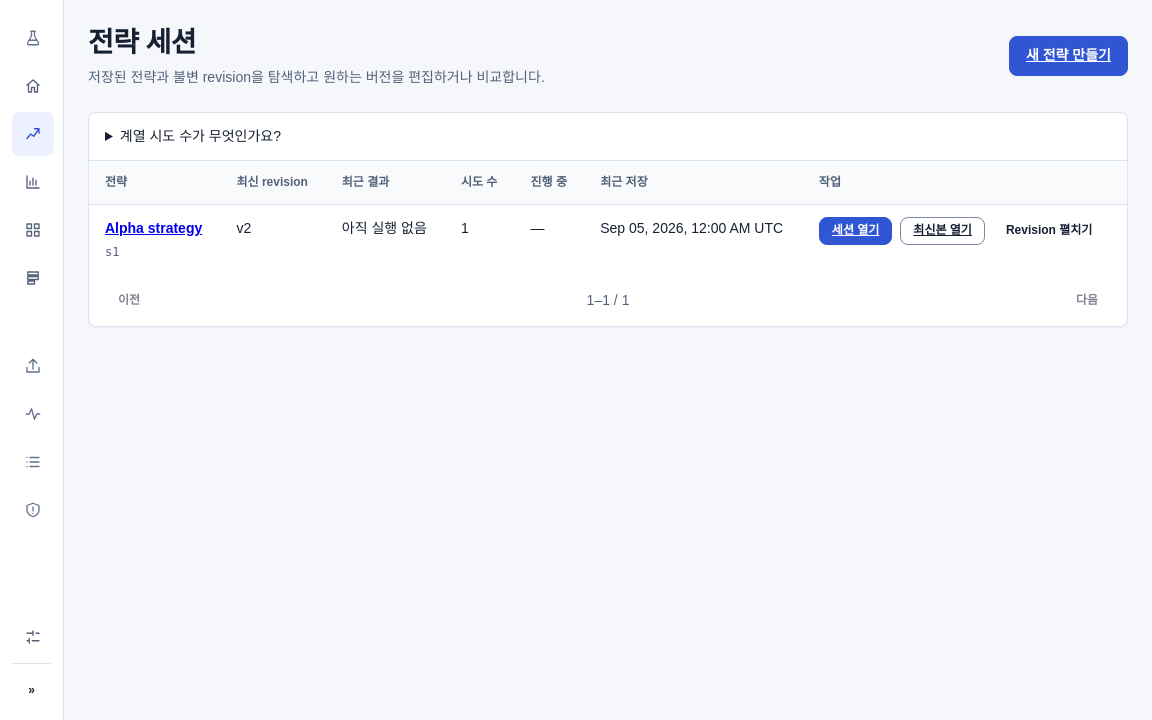
Test: App Shell routes › shows the lineage trial ledger with rechecks and uncounted runs and only a merge action
Click the button with aria-label "Revision 펼치기: Alpha strategy (s1)" at (1049, 231), box [993,217,1105,245]
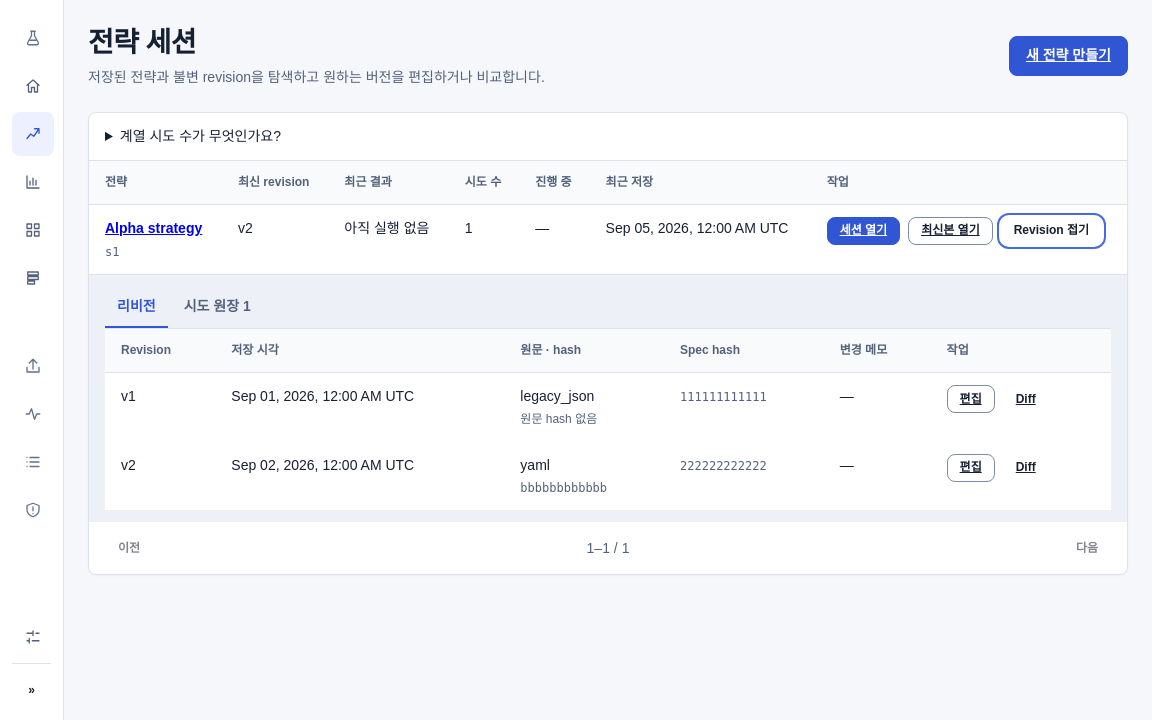
Click the tab "시도 원장 1" at (217, 308), box [172,287,263,328]
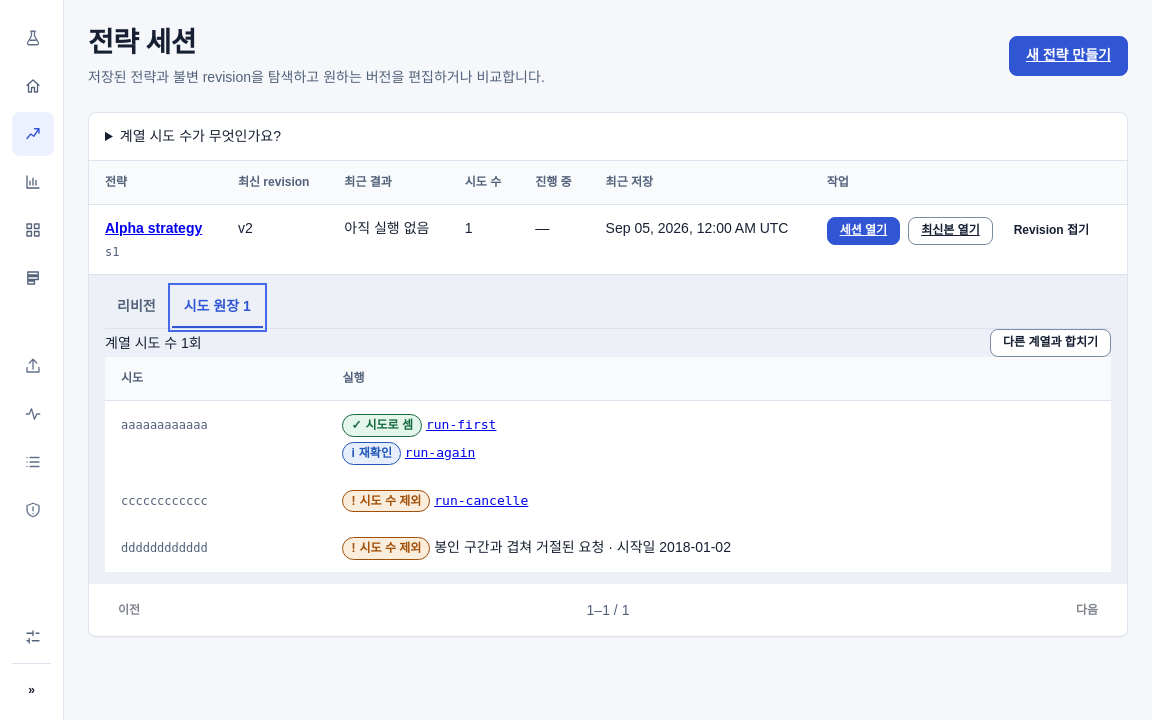
Expected: the panel shows "계열 시도 수 1회", [105,334,202,350]
Expected: the text "! 시도 수 제외 봉인 구간과 겹쳐 거절된 요청 · 시작일 2018-01-02" is shown, [326,524,1111,572]
Expected: the buttons read "다른 계열과 합치기", in this order, [990,329,1111,357]
